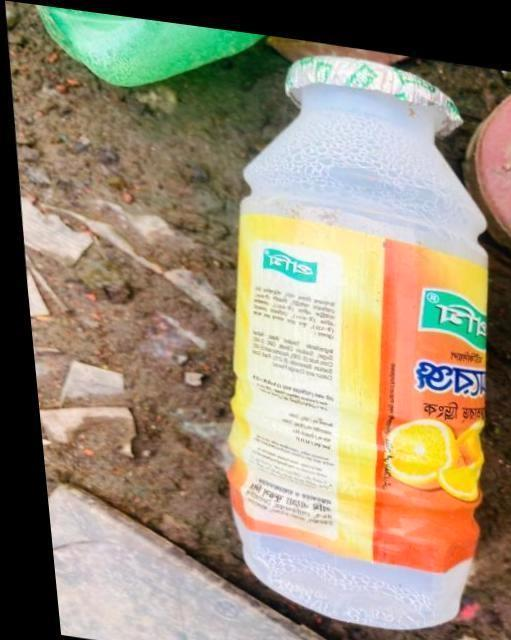bottle: (231, 71, 482, 634)
